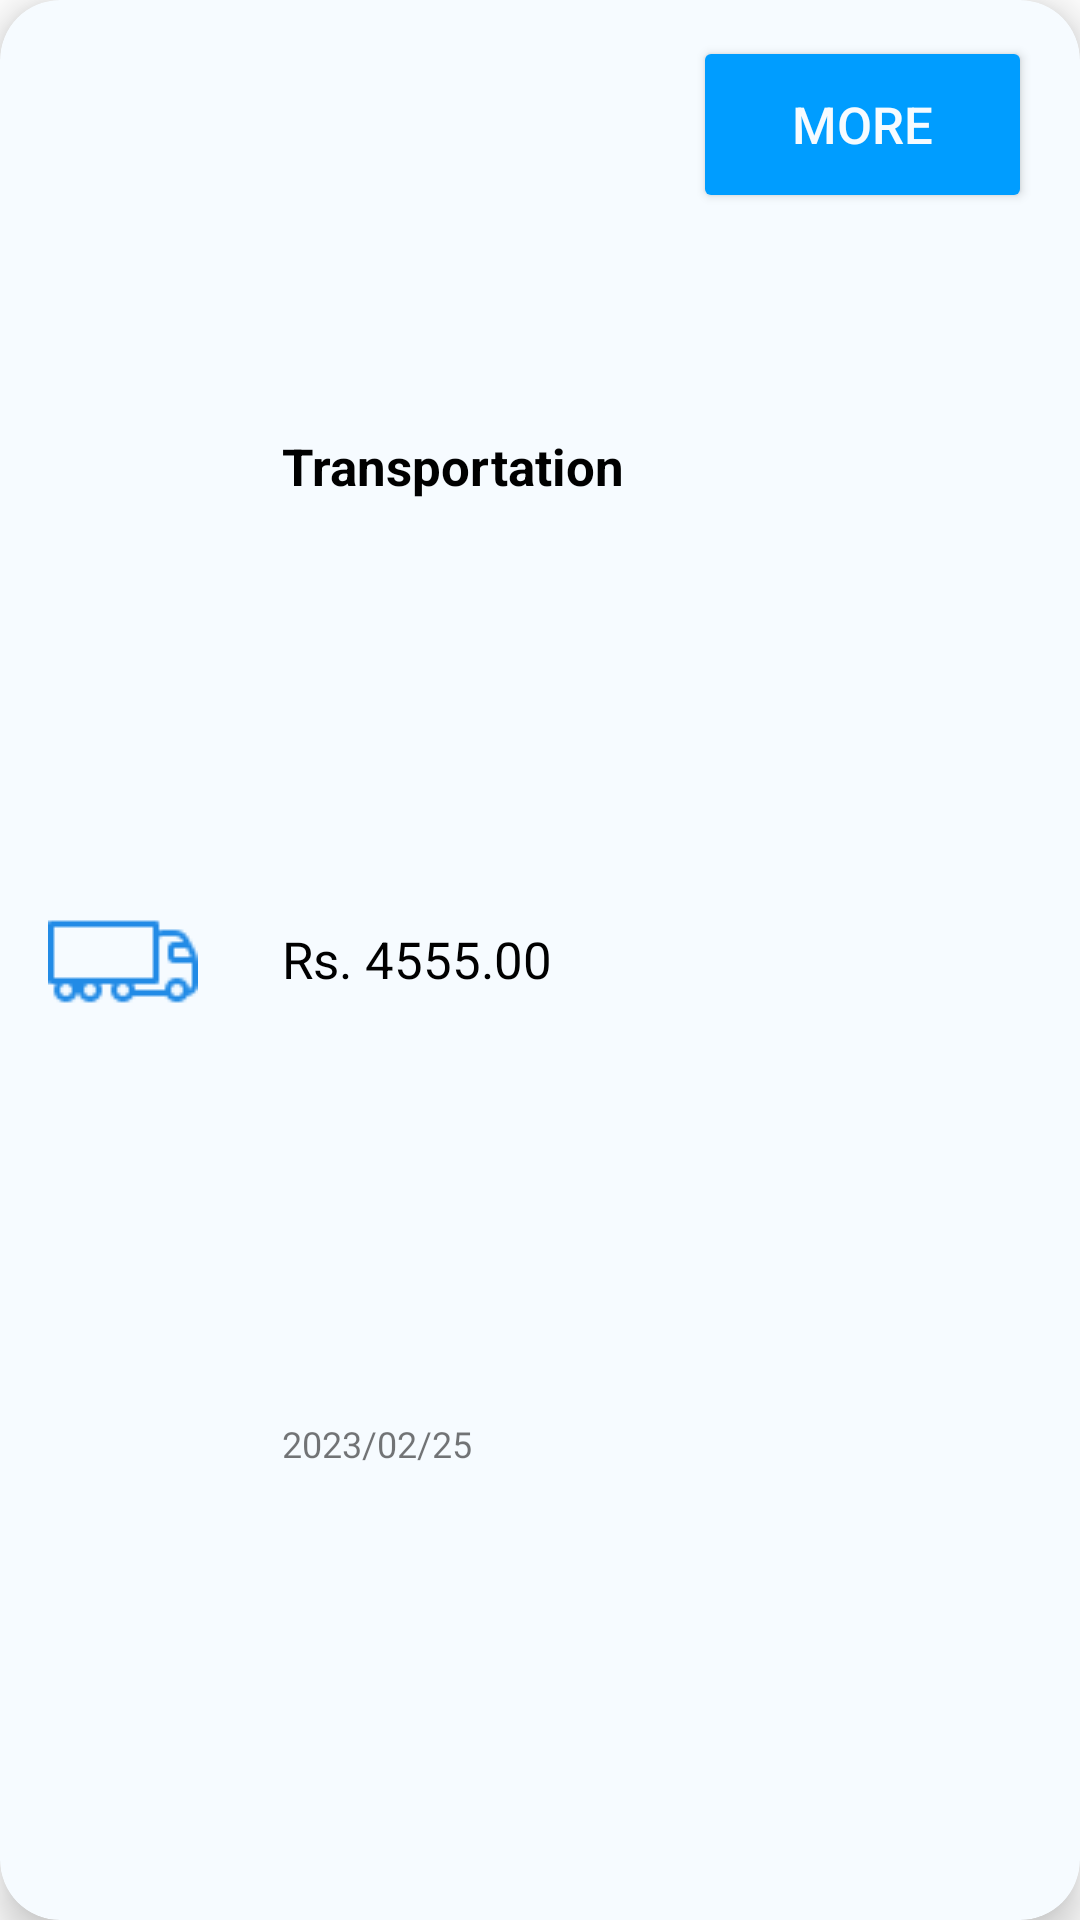

Point at icon controls on the screen. Image size 1080×1920, points as (x,y).
trcuk: (123,961)
